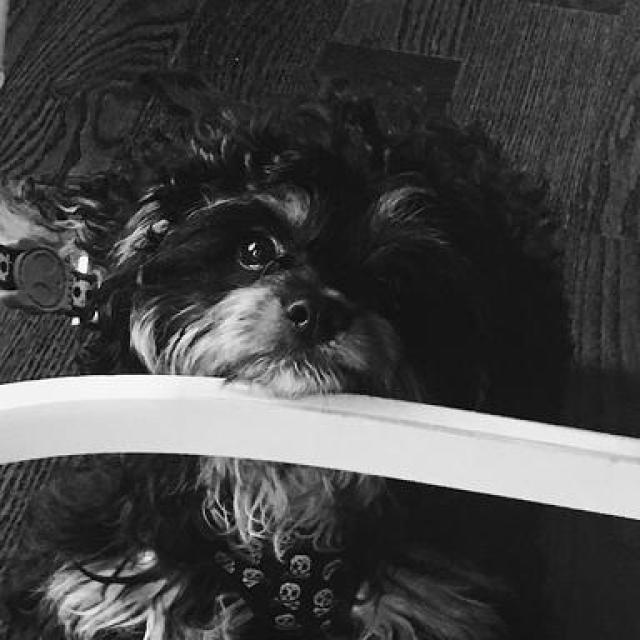sad: (71, 95, 640, 420)
